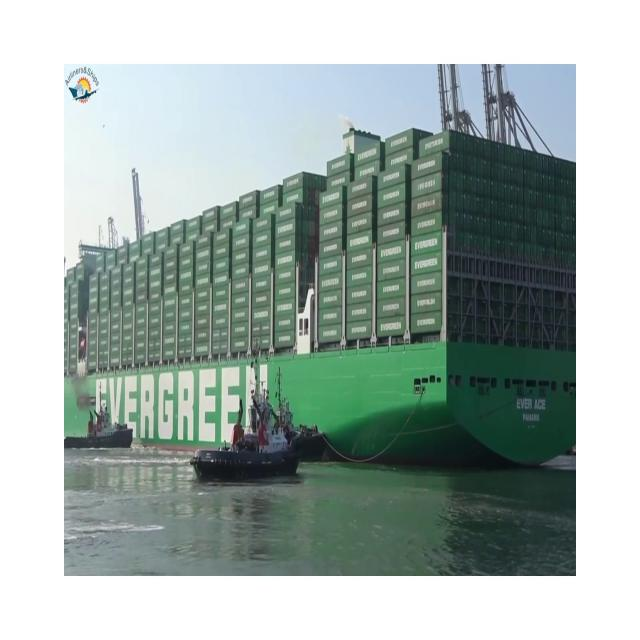OCR: (87, 350, 282, 457), (509, 393, 554, 438)
